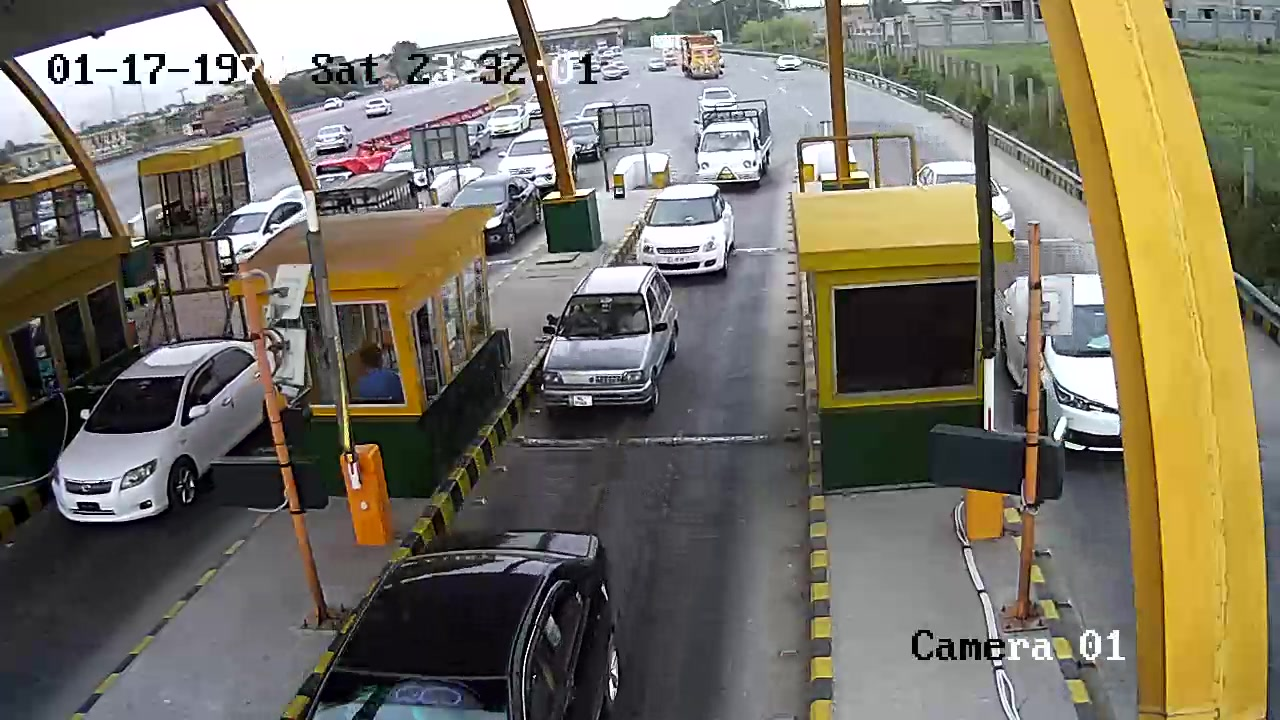F1: (524, 271, 689, 437)
